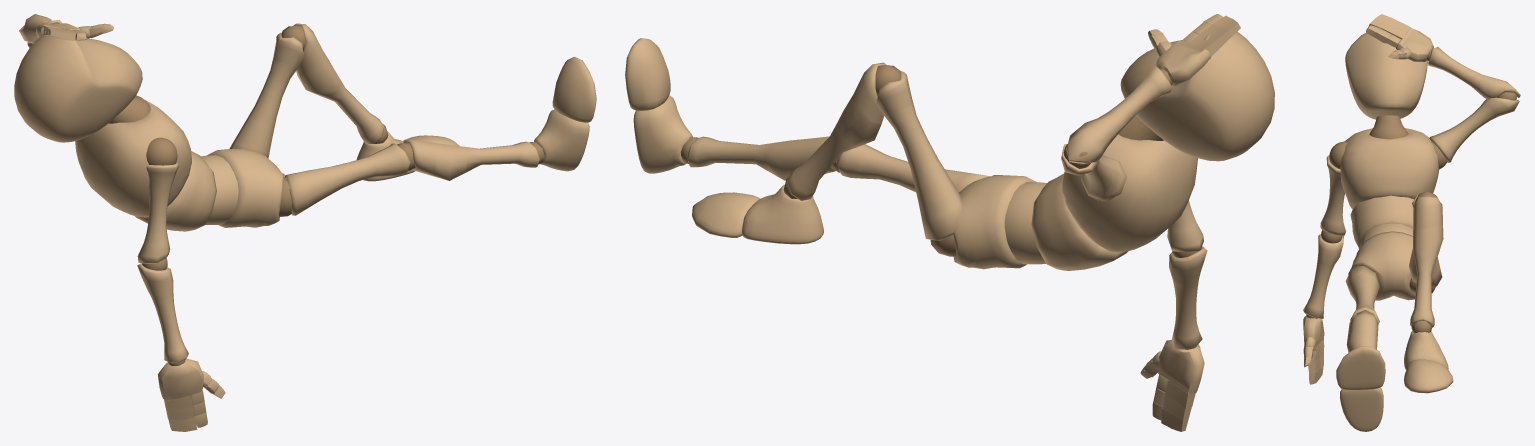
File: BoneyTherapy.obj
3 views of the same model, side by side, from view 1: azimuth 30°, elevation 25°; view 2: azimuth 150°, elevation 25°; view 3: azimuth 270°, elevation 25° (orthographic). The views are drawn at different scales.
Parts seen in each view (by area): view 1: Bony_Mesh_Grp Bony Bony_body_Grp Bony_head, Bony_Mesh_Grp Bony Bony_body_Grp Bony_chest, Bony_Mesh_Grp Bony Bony_R_leg_Grp Bony_R_leg, Bony_Mesh_Grp Bony Bony_L_leg_Grp Bony_L_leg, Bony_Mesh_Grp Bony Bony__R_arm_Grp Bony_R_arm, Bony_pelvis Bony_Mesh_Grp Bony, Bony_Mesh_Grp Bony Bony_body_Grp Bony_spine2, Bony_Mesh_Grp Bony Bony_R_foot Bony_R_leg_Grp, Bony_Mesh_Grp Bony Bony_R_leg_Grp Bony_R_toe, Bony_Mesh_Grp Bony Bony_spine1 Bony_body_Grp, Bony_Mesh_Grp Bony Bony__R_arm_Grp Bony_R_hand, Bony_Mesh_Grp Bony Bony_R_shoulder Bony__R_arm_Grp (+3 smaller); view 2: Bony_Mesh_Grp Bony Bony_body_Grp Bony_head, Bony_Mesh_Grp Bony Bony_L_leg_Grp Bony_L_leg, Bony_Mesh_Grp Bony Bony_body_Grp Bony_chest, Bony_Mesh_Grp Bony Bony_R_leg_Grp Bony_R_leg, Bony_Mesh_Grp Bony Bony__L_arm_Grp Bony_L_arm, Bony_pelvis Bony_Mesh_Grp Bony, Bony_Mesh_Grp Bony Bony_body_Grp Bony_spine2, Bony_Mesh_Grp Bony Bony__R_arm_Grp Bony_R_arm, Bony_Mesh_Grp Bony Bony_L_foot Bony_L_leg_Grp, Bony_Mesh_Grp Bony Bony_R_foot Bony_R_leg_Grp, Bony_Mesh_Grp Bony Bony_R_leg_Grp Bony_R_toe, Bony_Mesh_Grp Bony Bony_spine1 Bony_body_Grp (+4 smaller); view 3: Bony_Mesh_Grp Bony Bony_body_Grp Bony_chest, Bony_Mesh_Grp Bony Bony_body_Grp Bony_head, Bony_Mesh_Grp Bony Bony_L_leg_Grp Bony_L_leg, Bony_Mesh_Grp Bony Bony__L_arm_Grp Bony_L_arm, Bony_pelvis Bony_Mesh_Grp Bony, Bony_Mesh_Grp Bony Bony__R_arm_Grp Bony_R_arm, Bony_Mesh_Grp Bony Bony_R_leg_Grp Bony_R_leg, Bony_Mesh_Grp Bony Bony_body_Grp Bony_spine2, Bony_Mesh_Grp Bony Bony_R_leg_Grp Bony_R_toe, Bony_Mesh_Grp Bony Bony_R_foot Bony_R_leg_Grp, Bony_Mesh_Grp Bony Bony_L_leg_Grp Bony_L_toe, Bony_Mesh_Grp Bony Bony_L_foot Bony_L_leg_Grp (+5 smaller).
Boxes of the visible parts, left/top/right/bottom form: Bony_Mesh_Grp Bony Bony_body_Grp Bony_head: left=14, top=28, right=142, bottom=142; Bony_Mesh_Grp Bony Bony_body_Grp Bony_chest: left=75, top=100, right=191, bottom=217; Bony_Mesh_Grp Bony Bony_R_leg_Grp Bony_R_leg: left=284, top=140, right=539, bottom=215; Bony_Mesh_Grp Bony Bony_L_leg_Grp Bony_L_leg: left=229, top=23, right=384, bottom=158; Bony_Mesh_Grp Bony Bony__R_arm_Grp Bony_R_arm: left=137, top=162, right=188, bottom=363; Bony_pelvis Bony_Mesh_Grp Bony: left=207, top=148, right=284, bottom=227; Bony_Mesh_Grp Bony Bony_body_Grp Bony_spine2: left=135, top=151, right=216, bottom=231; Bony_Mesh_Grp Bony Bony_R_foot Bony_R_leg_Grp: left=534, top=109, right=589, bottom=171; Bony_Mesh_Grp Bony Bony_R_leg_Grp Bony_R_toe: left=552, top=56, right=596, bottom=122; Bony_Mesh_Grp Bony Bony_spine1 Bony_body_Grp: left=201, top=155, right=238, bottom=224; Bony_Mesh_Grp Bony Bony__R_arm_Grp Bony_R_hand: left=158, top=358, right=203, bottom=400; Bony_Mesh_Grp Bony Bony_R_shoulder Bony__R_arm_Grp: left=146, top=137, right=177, bottom=165; Bony_Mesh_Grp Bony Bony_body_Grp Bony_head: left=1120, top=32, right=1274, bottom=161; Bony_Mesh_Grp Bony Bony_L_leg_Grp Bony_L_leg: left=787, top=62, right=962, bottom=240; Bony_Mesh_Grp Bony Bony_body_Grp Bony_chest: left=1062, top=134, right=1197, bottom=252; Bony_Mesh_Grp Bony Bony_R_leg_Grp Bony_R_leg: left=686, top=136, right=990, bottom=192; Bony_Mesh_Grp Bony Bony__L_arm_Grp Bony_L_arm: left=1061, top=65, right=1171, bottom=201; Bony_pelvis Bony_Mesh_Grp Bony: left=953, top=175, right=1036, bottom=269; Bony_Mesh_Grp Bony Bony_body_Grp Bony_spine2: left=1031, top=173, right=1128, bottom=270; Bony_Mesh_Grp Bony Bony__R_arm_Grp Bony_R_arm: left=1167, top=200, right=1207, bottom=349; Bony_Mesh_Grp Bony Bony_L_foot Bony_L_leg_Grp: left=742, top=184, right=823, bottom=244; Bony_Mesh_Grp Bony Bony_R_foot Bony_R_leg_Grp: left=633, top=95, right=692, bottom=173; Bony_Mesh_Grp Bony Bony_R_leg_Grp Bony_R_toe: left=625, top=38, right=670, bottom=111; Bony_Mesh_Grp Bony Bony_spine1 Bony_body_Grp: left=1004, top=182, right=1047, bottom=264; Bony_Mesh_Grp Bony Bony_body_Grp Bony_chest: left=1340, top=128, right=1438, bottom=209; Bony_Mesh_Grp Bony Bony_body_Grp Bony_head: left=1345, top=28, right=1427, bottom=119; Bony_Mesh_Grp Bony Bony_L_leg_Grp Bony_L_leg: left=1409, top=194, right=1443, bottom=327; Bony_Mesh_Grp Bony Bony__L_arm_Grp Bony_L_arm: left=1428, top=47, right=1520, bottom=162; Bony_pelvis Bony_Mesh_Grp Bony: left=1348, top=231, right=1415, bottom=300; Bony_Mesh_Grp Bony Bony__R_arm_Grp Bony_R_arm: left=1303, top=155, right=1345, bottom=318; Bony_Mesh_Grp Bony Bony_R_leg_Grp Bony_R_leg: left=1345, top=266, right=1379, bottom=352; Bony_Mesh_Grp Bony Bony_body_Grp Bony_spine2: left=1350, top=195, right=1413, bottom=248; Bony_Mesh_Grp Bony Bony_R_leg_Grp Bony_R_toe: left=1336, top=345, right=1385, bottom=389; Bony_Mesh_Grp Bony Bony_R_foot Bony_R_leg_Grp: left=1340, top=387, right=1383, bottom=431; Bony_Mesh_Grp Bony Bony_L_leg_Grp Bony_L_toe: left=1404, top=359, right=1453, bottom=393; Bony_Mesh_Grp Bony Bony_L_foot Bony_L_leg_Grp: left=1404, top=331, right=1448, bottom=370.
Size of the model in its own units: 8.38 by 5.76 by 3.47.
